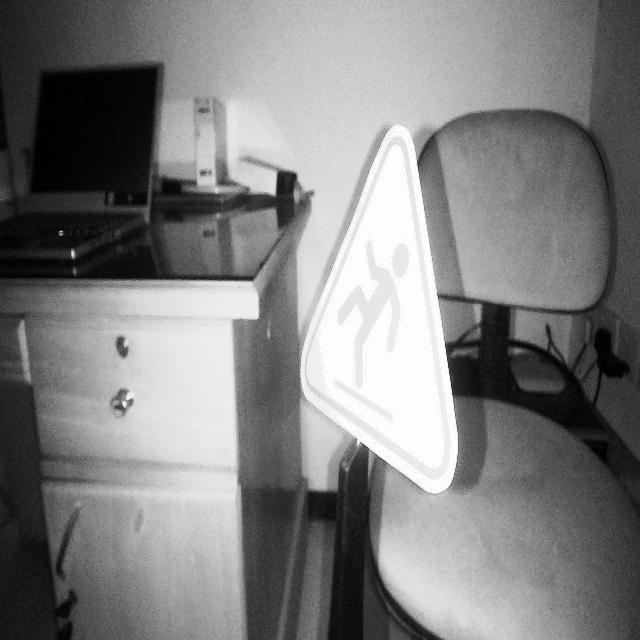Sign: (299, 123, 461, 497)
